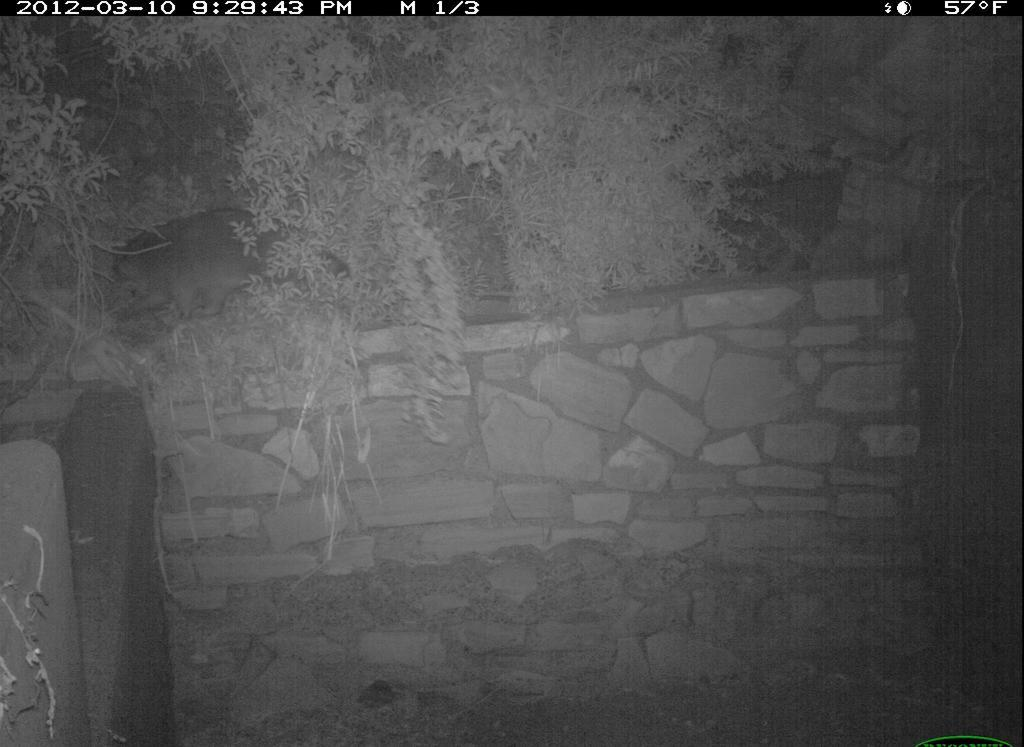raccoon: (108, 201, 365, 344)
